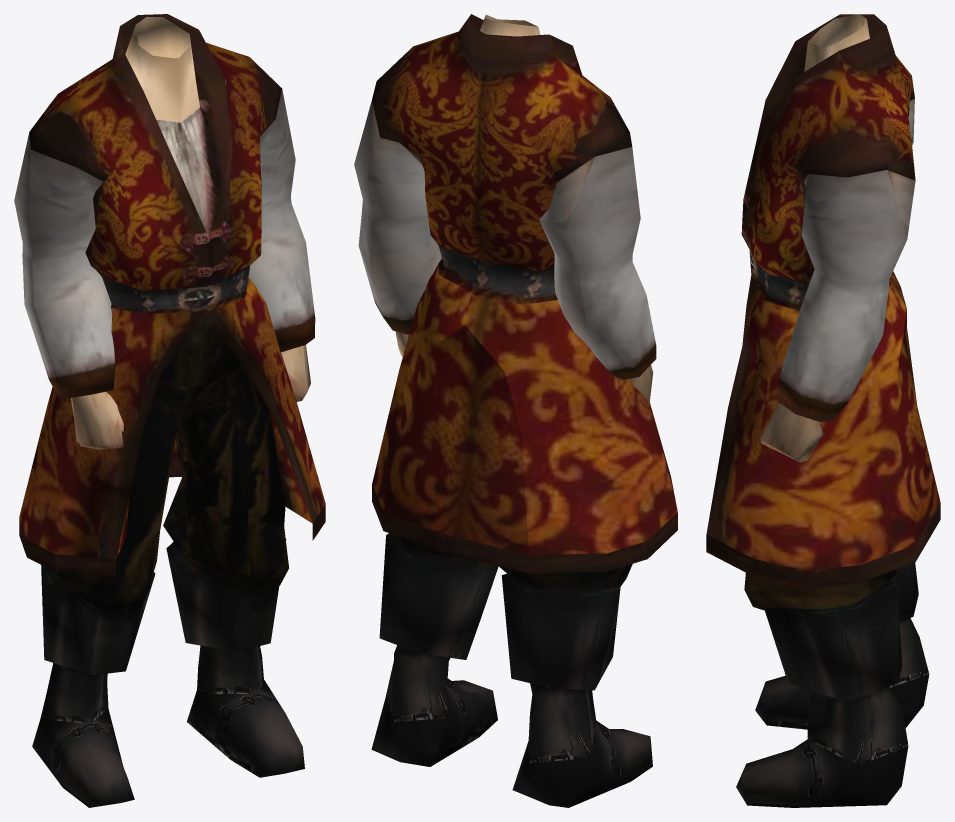
The model's file is WG_ARMOR_ELEGANT_CITIZEN_01.glb.
3 renders of one model, left to right at view 1: azimuth 30°, elevation 25°; view 2: azimuth 150°, elevation 25°; view 3: azimuth 270°, elevation 25°, orthographic. The views are drawn at different scales.
Parts seen in each view (by area): view 1: WG_ARMOR_ELEGANT_CITIZEN_01; view 2: WG_ARMOR_ELEGANT_CITIZEN_01; view 3: WG_ARMOR_ELEGANT_CITIZEN_01.
Boxes of the visible parts, x1,y1,x2,y2 form: WG_ARMOR_ELEGANT_CITIZEN_01: [14, 14, 325, 807]; WG_ARMOR_ELEGANT_CITIZEN_01: [354, 14, 677, 807]; WG_ARMOR_ELEGANT_CITIZEN_01: [706, 14, 940, 807].
Bounding box in the file's own units: 0.651 × 1.69 × 0.4847.
3 materials, 3 textured.
